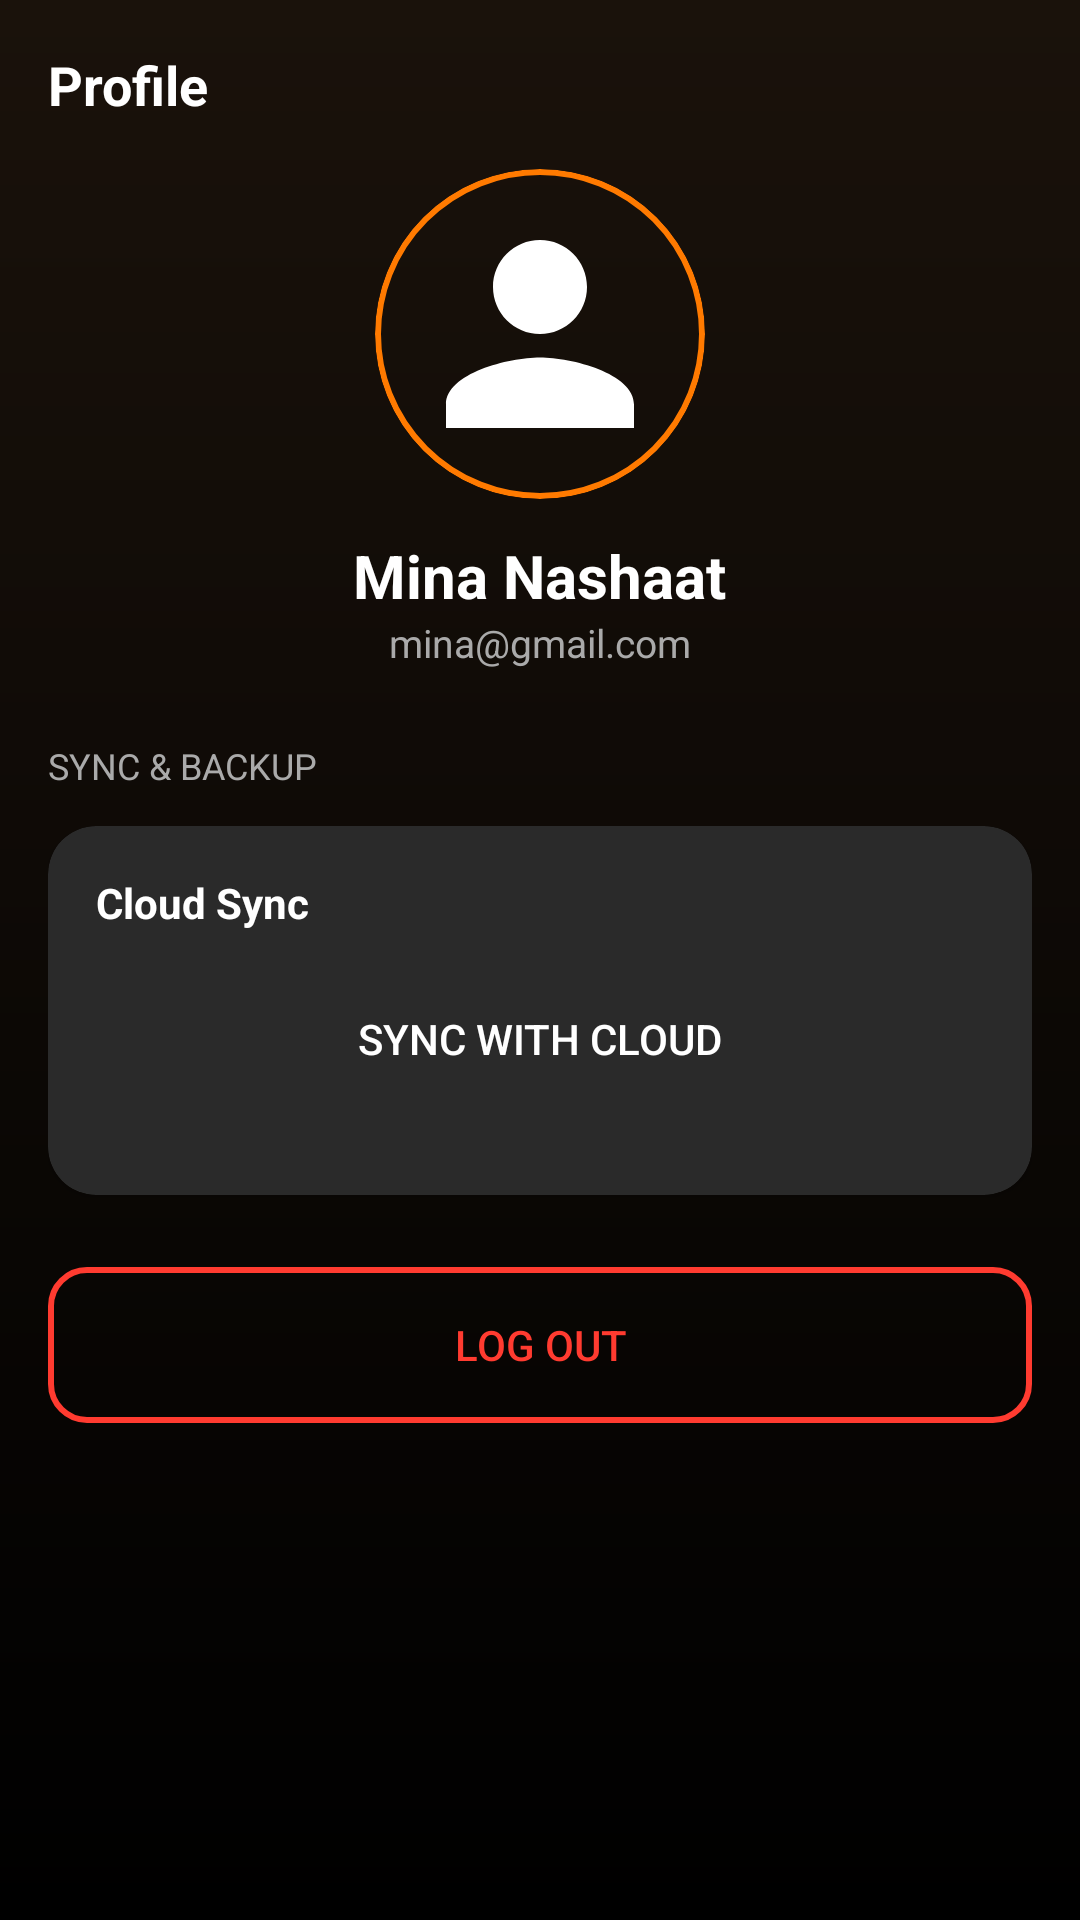

Icon click points for this 1080px x 1920px phone screenshot, format [x,y]:
person: [540,334]
